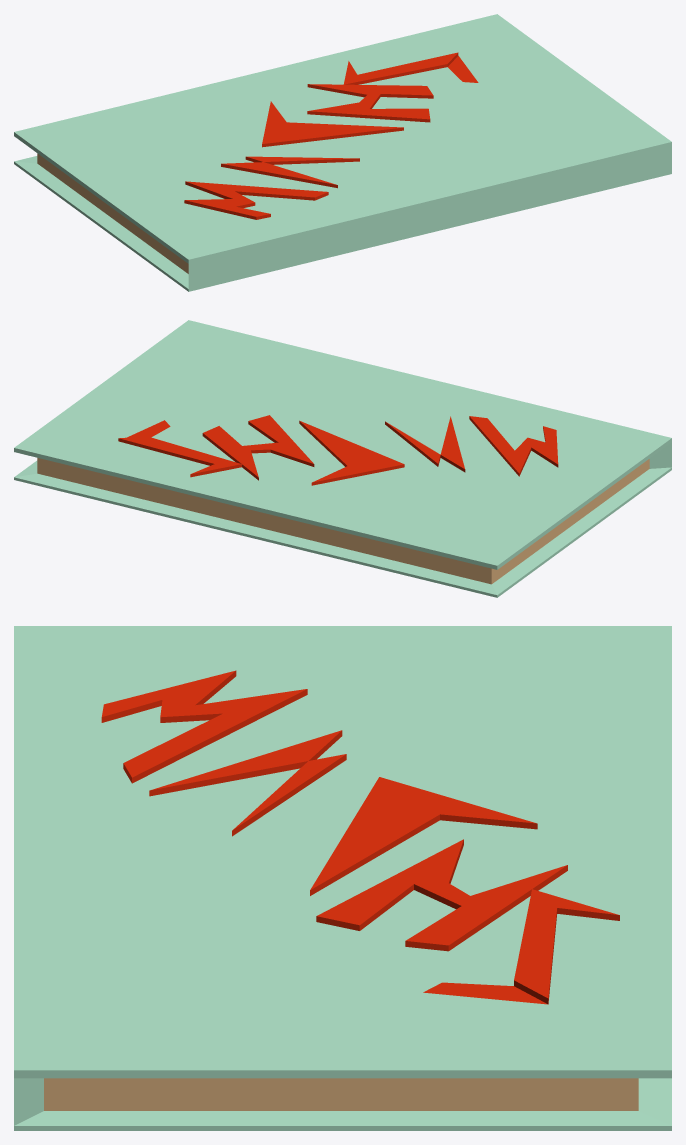
The model's file is book.glb.
3 views of the same model, one above another, from view 1: azimuth 30°, elevation 25°; view 2: azimuth 150°, elevation 25°; view 3: azimuth 270°, elevation 25° (orthographic). The views are drawn at different scales.
Visible parts, largest first — view 1: Cube; view 2: Cube; view 3: Cube.
Boxes of the visible parts, bbox=[...] form: Cube: bbox=[14, 14, 671, 291]; Cube: bbox=[14, 320, 671, 597]; Cube: bbox=[14, 626, 671, 1130].
Bounding box in the file's own units: 2 × 0.1393 × 1.25.
